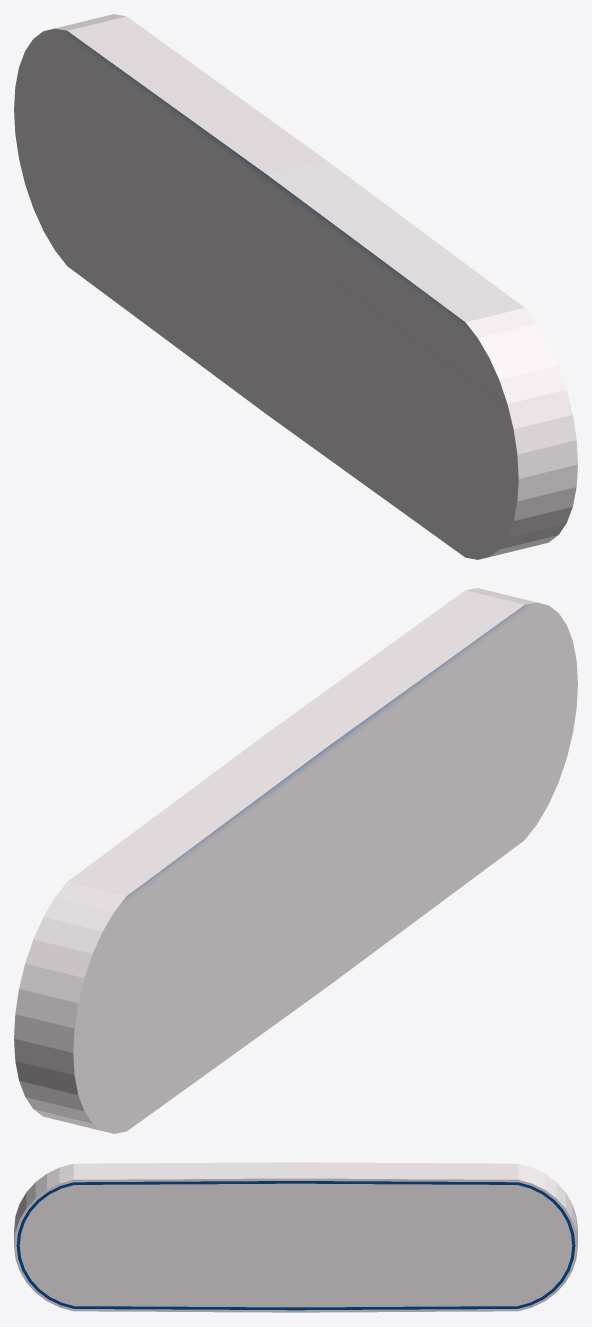
The model's file is mondaibun_maru.glb.
The picture shows the model from 3 angles, top to bottom: view 1: azimuth 30°, elevation 25°; view 2: azimuth 150°, elevation 25°; view 3: azimuth 270°, elevation 25°; orthographic projection. The views are drawn at different scales.
Parts seen in each view (by area): view 1: 円柱; view 2: 円柱; view 3: 円柱.
Boxes of the visible parts, x1,y1,x2,y2 form: 円柱: (14,14,577,559); 円柱: (14,588,577,1133); 円柱: (14,1162,577,1312).
Size of the model in its own units: 1.09 by 4.2 by 16.02.
Materials: 1 (1 with a texture image).
